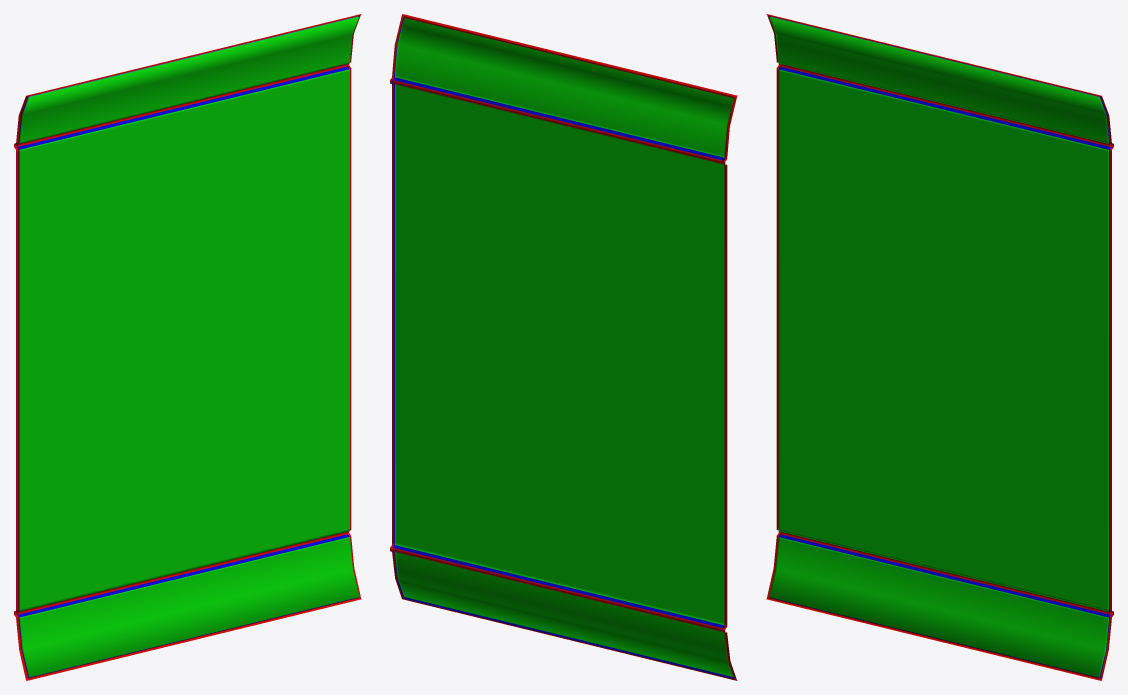
The model's file is ModularWall_1.fbx.
3 views of the same model, side by side, from view 1: azimuth 30°, elevation 25°; view 2: azimuth 150°, elevation 25°; view 3: azimuth 330°, elevation 25° (orthographic).
Parts seen in each view (by area): view 1: Cube; view 2: Cube; view 3: Cube.
Boxes of the visible parts, x1=… form: Cube: x1=14, y1=14, x2=361, y2=680; Cube: x1=390, y1=14, x2=737, y2=680; Cube: x1=766, y1=14, x2=1113, y2=680.
Bounding box in the file's own units: 600 × 1000 × 39.54.
